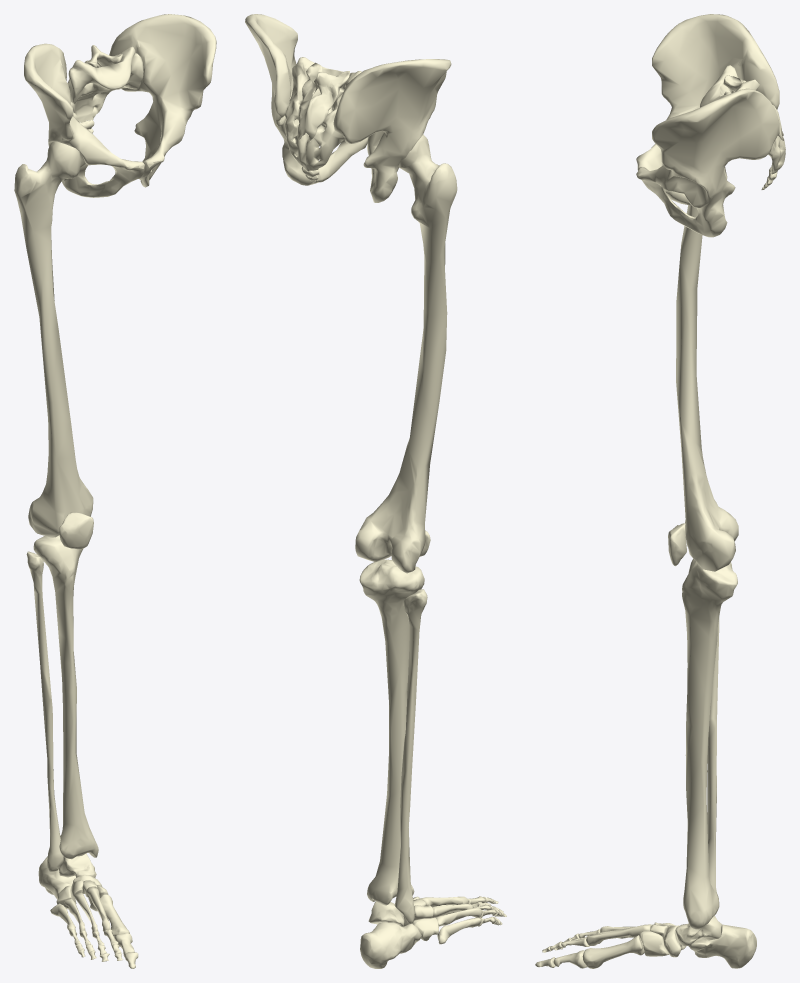
Rendered from leg.dae.
3 renders of one model, left to right at view 1: azimuth 30°, elevation 25°; view 2: azimuth 150°, elevation 25°; view 3: azimuth 270°, elevation 25°, orthographic. The views are drawn at different scales.
Visible parts, largest first — view 1: PELVISL, Femur, Tibia, SACRUML, Fibula, Patella, Calcaneu, Talus, _1stMetat, SPINOUSL; view 2: Femur, PELVISL, Tibia, Fibula, SACRUML, SPINOUSL, Calcaneu, Talus; view 3: PELVISL, Tibia, Femur, Fibula, Calcaneu, SACRUML, _1stMetat, Talus, Patella, _2ndMetat, _1stCunei.
Boxes of the visible parts, bbox=[...] form: PELVISL: bbox=[24, 14, 216, 197]; Femur: bbox=[14, 141, 93, 537]; Tibia: bbox=[33, 535, 98, 859]; SACRUML: bbox=[67, 46, 143, 122]; Fibula: bbox=[26, 551, 63, 871]; Patella: bbox=[59, 512, 93, 549]; Calcaneu: bbox=[38, 856, 75, 899]; Talus: bbox=[59, 853, 96, 877]; _1stMetat: bbox=[90, 894, 129, 937]; SPINOUSL: bbox=[84, 45, 122, 67]; Femur: bbox=[355, 134, 457, 573]; PELVISL: bbox=[245, 14, 451, 202]; Tibia: bbox=[359, 559, 424, 905]; Fibula: bbox=[394, 589, 427, 923]; SACRUML: bbox=[285, 57, 361, 170]; SPINOUSL: bbox=[297, 62, 349, 141]; Calcaneu: bbox=[360, 922, 421, 968]; Talus: bbox=[368, 901, 404, 925]; PELVISL: bbox=[636, 14, 779, 237]; Tibia: bbox=[682, 558, 737, 929]; Femur: bbox=[676, 205, 738, 571]; Fibula: bbox=[707, 617, 719, 892]; Calcaneu: bbox=[688, 924, 756, 968]; SACRUML: bbox=[700, 65, 785, 174]; _1stMetat: bbox=[582, 935, 644, 968]; Talus: bbox=[675, 915, 722, 946]; Patella: bbox=[668, 523, 686, 566]; _2ndMetat: bbox=[586, 924, 651, 945]; _1stCunei: bbox=[639, 931, 668, 956].
Size of the model in its own units: 0.2115 by 0.2142 by 0.8871.
